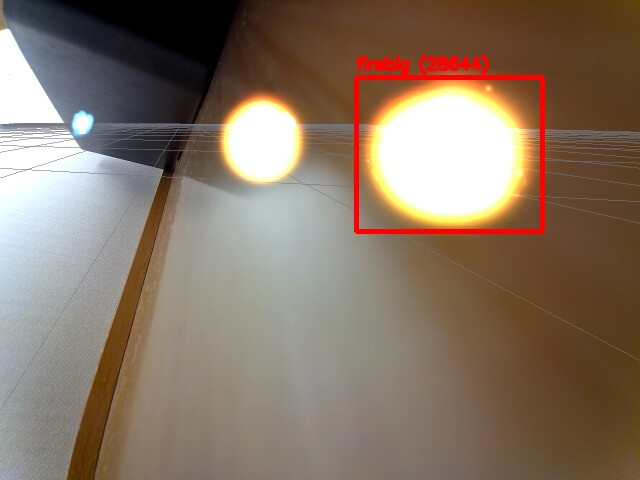firebig: (356, 77, 542, 231)
